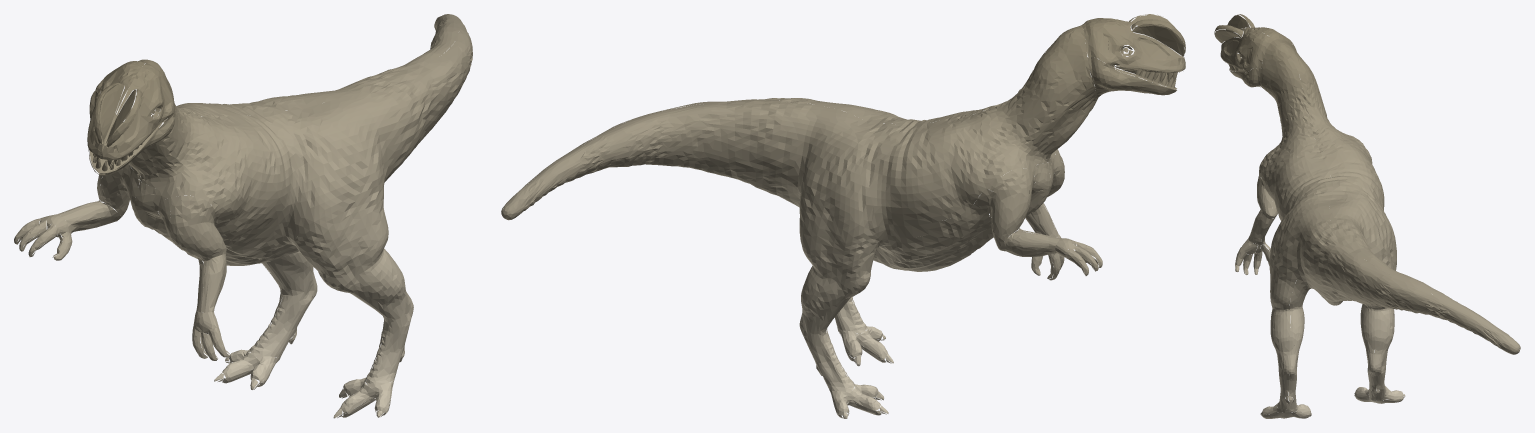
Rendered from dracovenator.glb.
3 views of the same model, side by side, from view 1: azimuth 30°, elevation 25°; view 2: azimuth 150°, elevation 25°; view 3: azimuth 270°, elevation 25° (orthographic). The views are drawn at different scales.
Parts seen in each view (by area): view 1: world; view 2: world; view 3: world.
Part boxes in pixels (x1,y1,x2,y2): world: [14, 14, 472, 418]; world: [501, 14, 1185, 418]; world: [1214, 14, 1520, 418].
Bounding box in the file's own units: 10 × 7.22 × 6.57.
